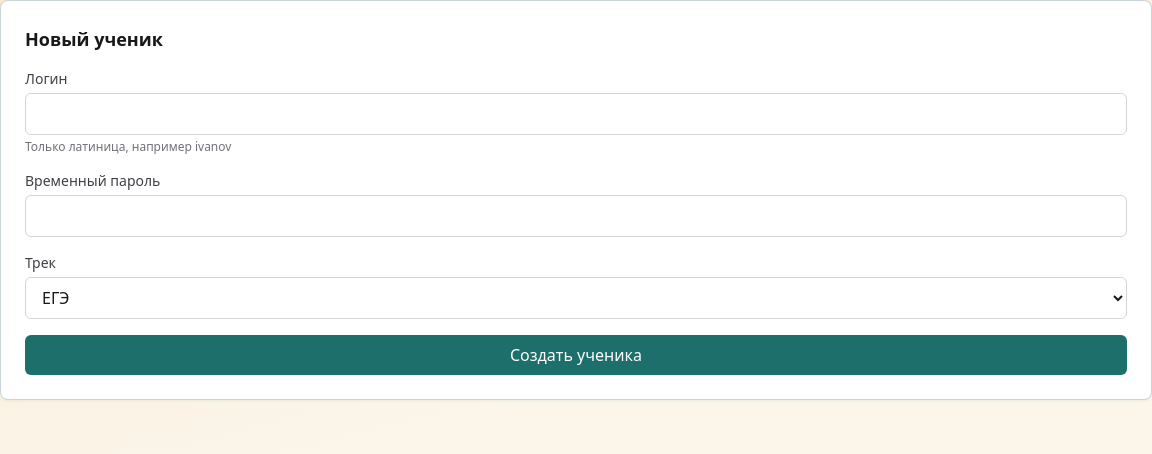
CreateStudentForm › shows a friendly message on 422 validation
Type "ivanov" into the field labelled "Логин" at (576, 114), box x1=25 y1=93 x2=1127 y2=135
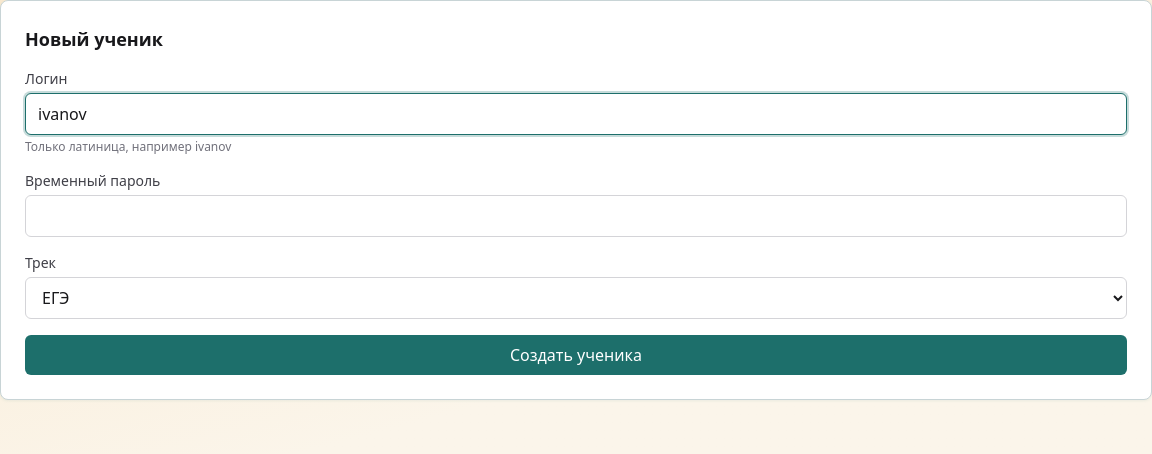
Type "secret1" into the password field labelled "Временный пароль" at (576, 216), box x1=25 y1=195 x2=1127 y2=237
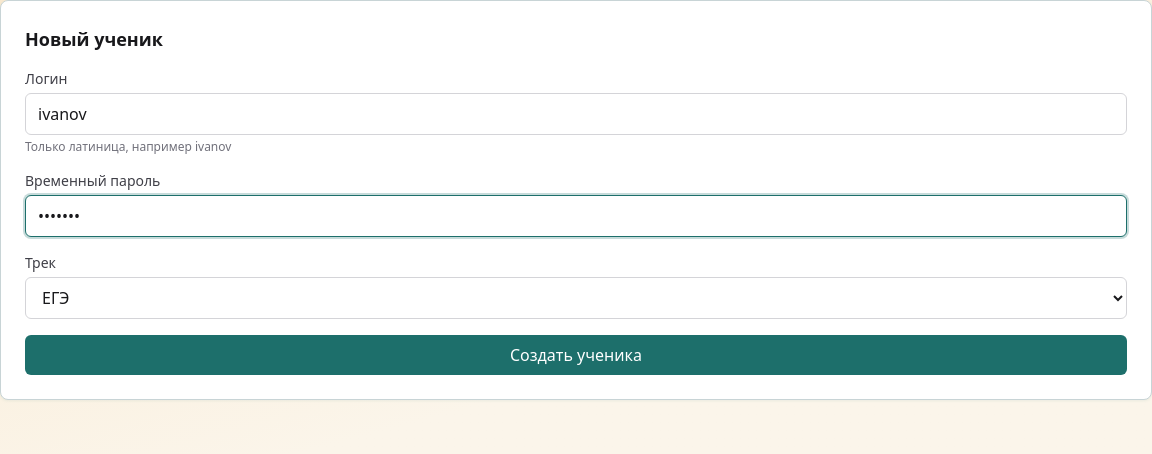
Select "ОГЭ" in the dropdown labelled "Трек" at (576, 298), box x1=25 y1=277 x2=1127 y2=319
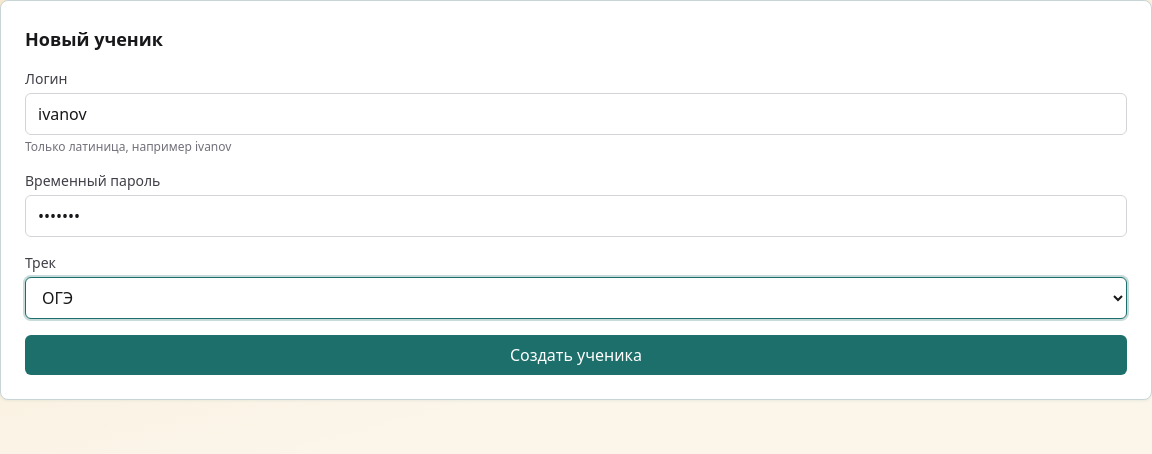
Click the button "Создать ученика" at (576, 355), box x1=25 y1=335 x2=1127 y2=375
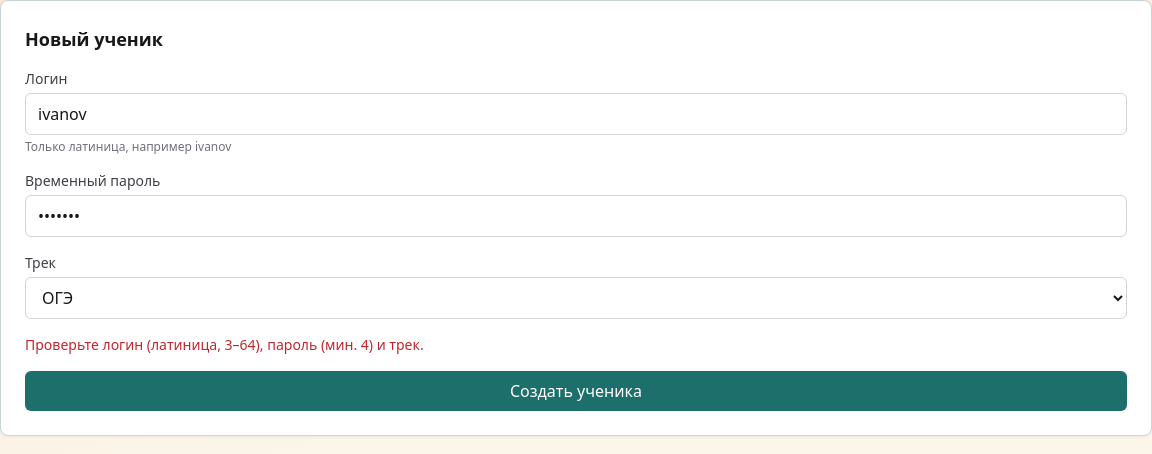
Expected: the message shows "Проверьте логин (латиница, 3–64), пароль (мин. 4)", x1=25 y1=335 x2=424 y2=354
